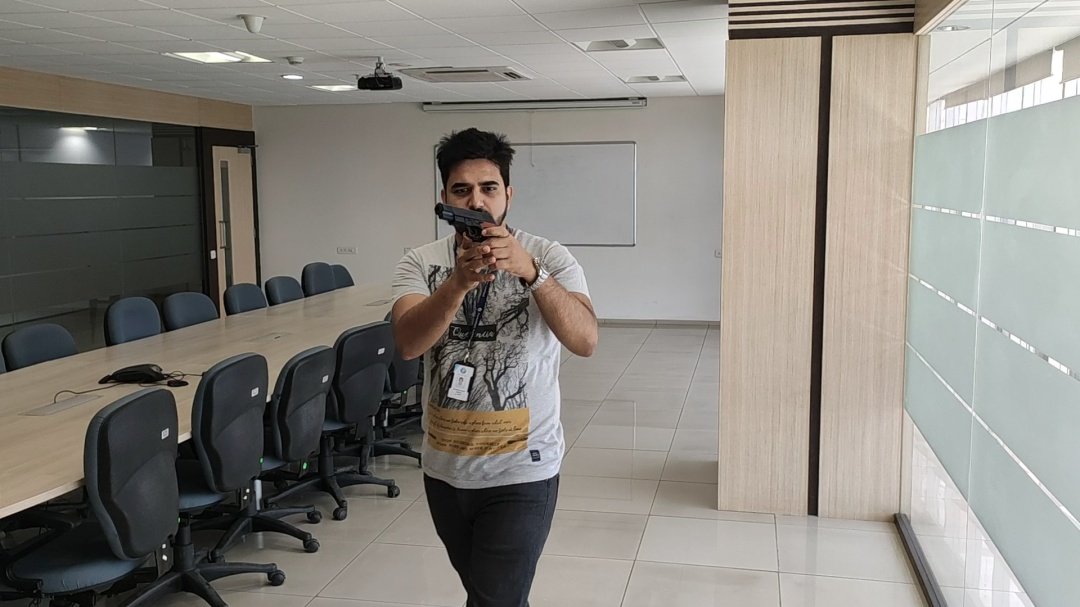gun: (432, 201, 491, 242)
